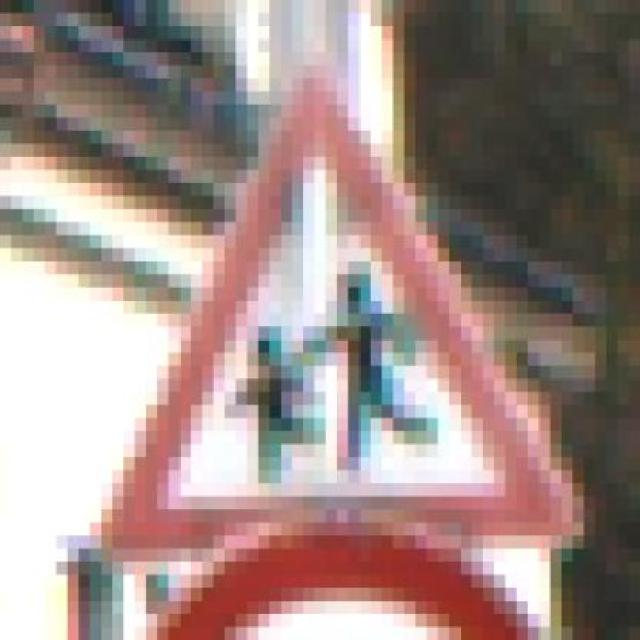Beware of children: (78, 39, 584, 575)
